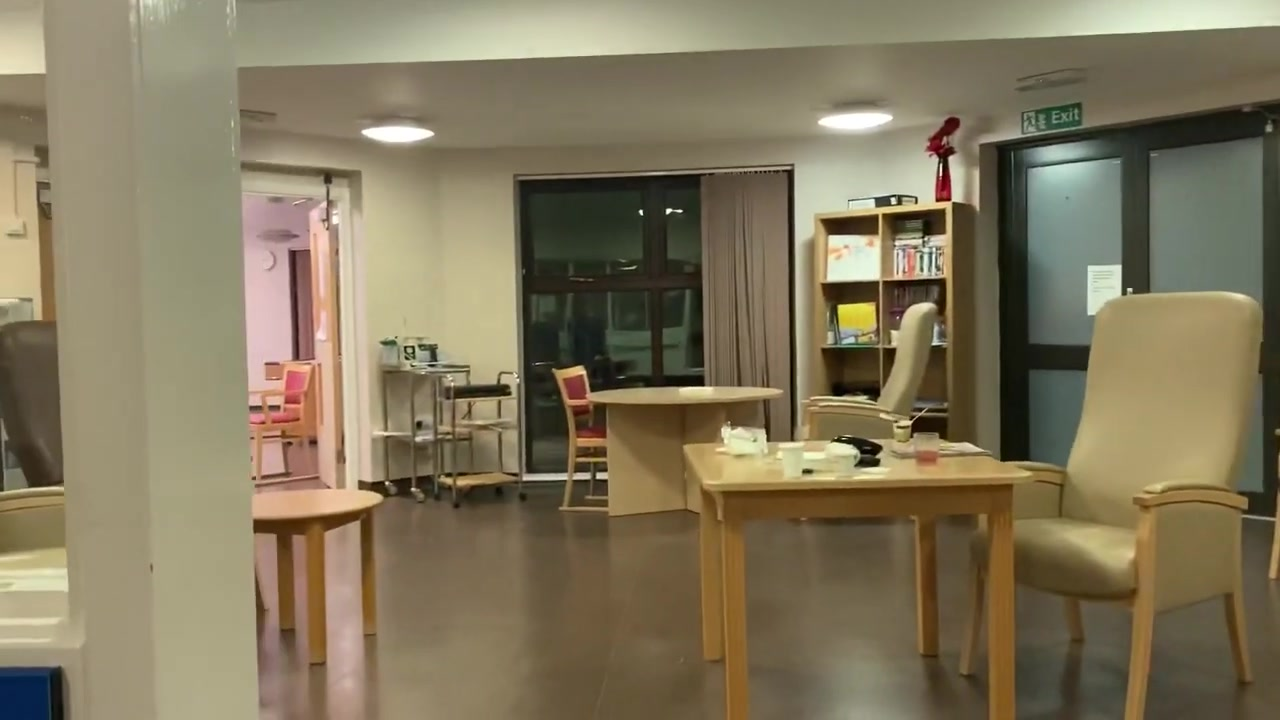cabinet: (809, 203, 974, 438)
chair: (960, 289, 1262, 719), (793, 303, 937, 440), (1, 320, 58, 489), (248, 362, 318, 487), (551, 363, 608, 512)
curtain: (700, 171, 791, 442)
table: (681, 433, 1034, 717), (586, 386, 783, 516), (252, 487, 385, 664)
utility_cart: (379, 361, 475, 504), (432, 370, 528, 509)
